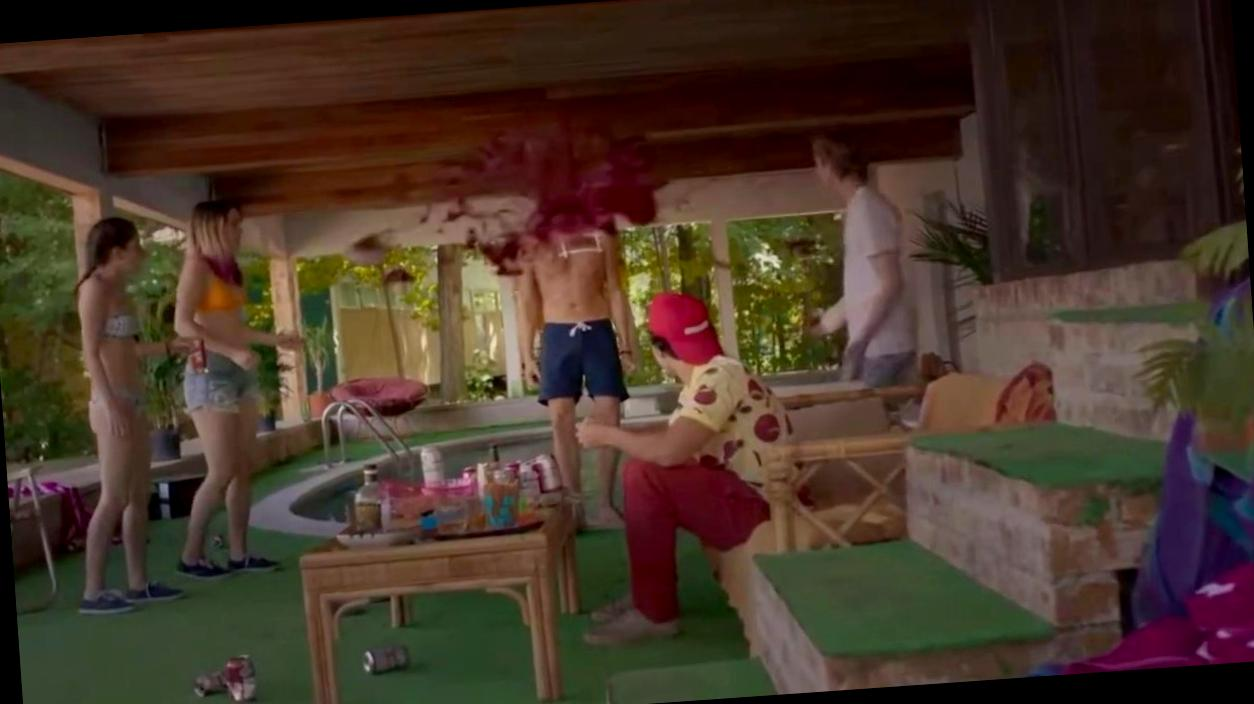Fire: (444, 131, 656, 276), (347, 229, 391, 264)
